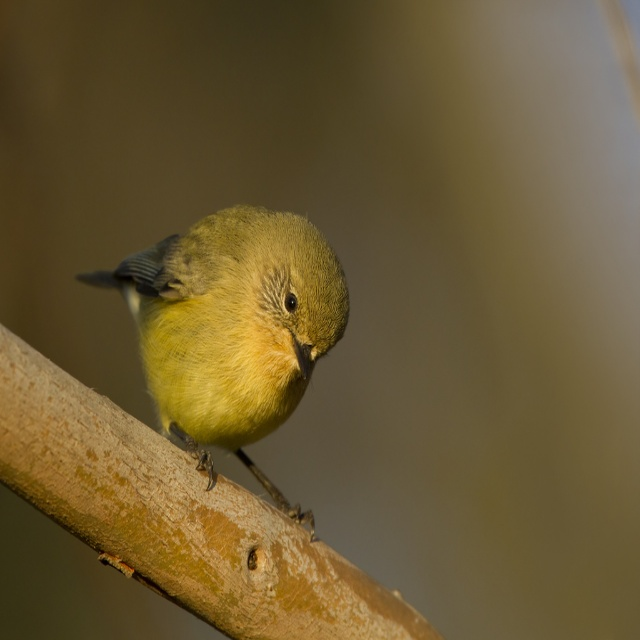Canary: (75, 202, 351, 540)
